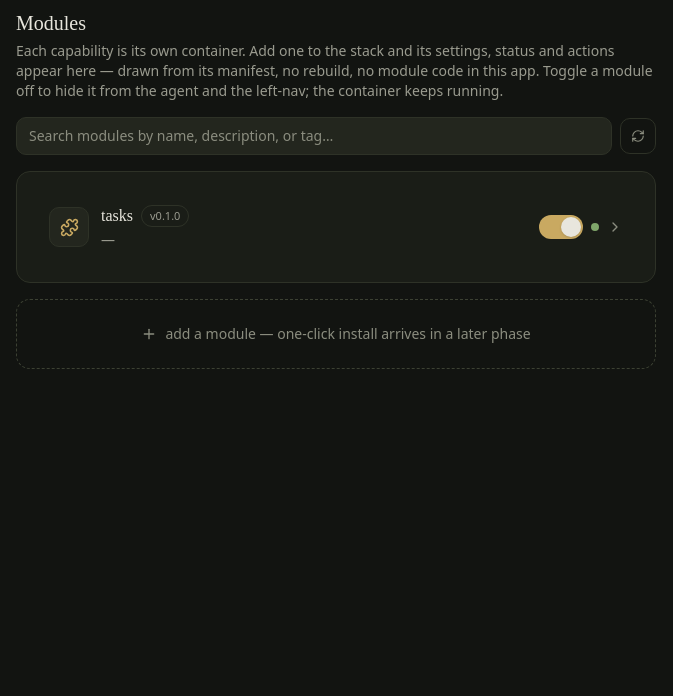
it: ModulesScreen per-module provider removal (#764) › keeps an ordinary block for a connected account that simply has no collections
Click the button named "expand" at x=615, y=227, box [607, 219, 623, 235]
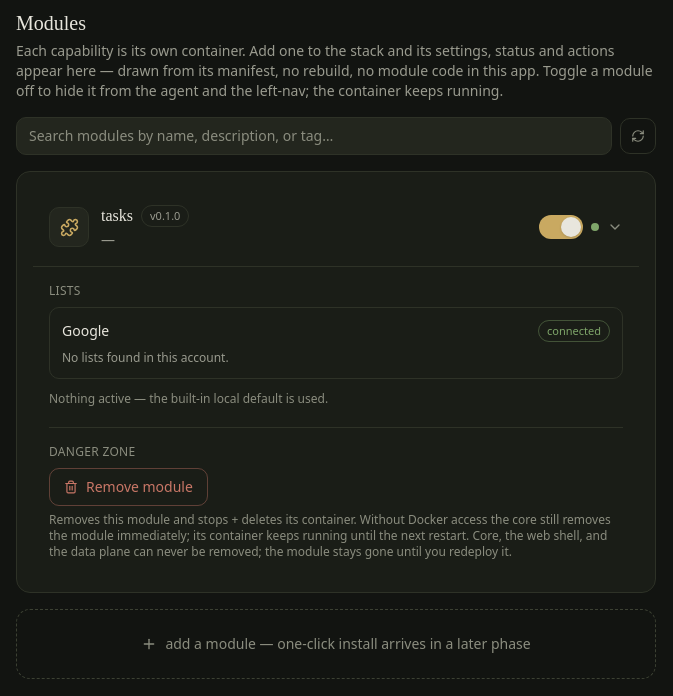
Now the text "No lists found in this account." is shown, box [62, 349, 229, 366]
